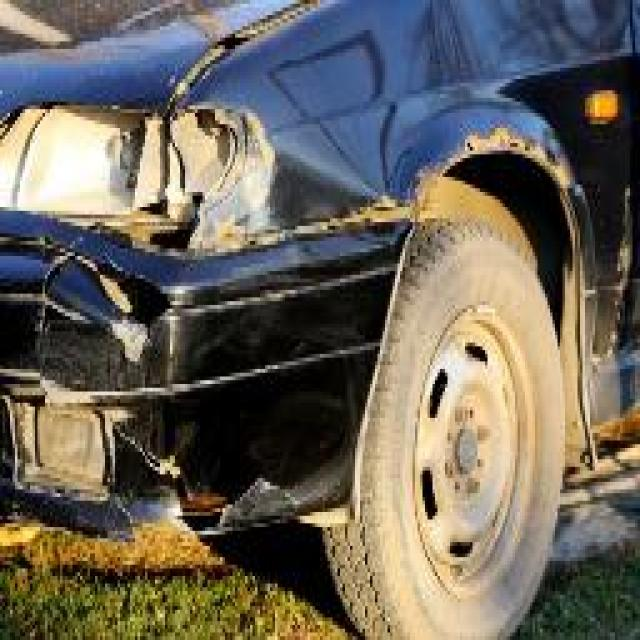Bonnet: (0, 4, 360, 105)
Bumper: (0, 215, 375, 542)
Light: (2, 109, 238, 226)
